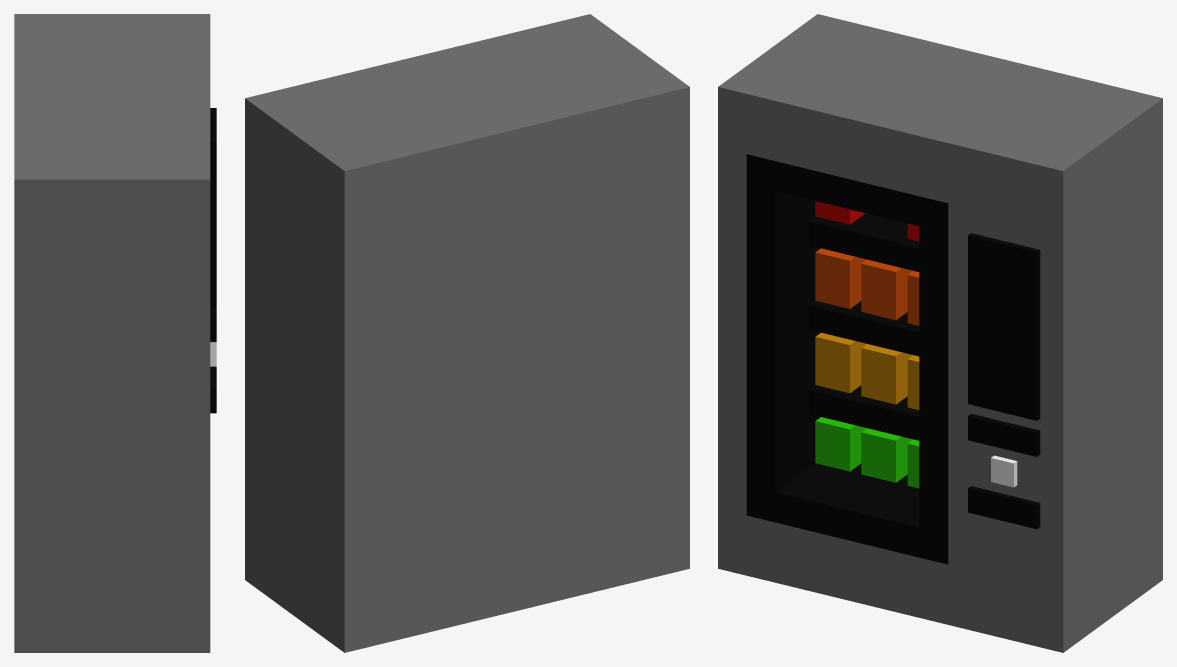
The model's file is vendingMachine.obj.
3 views of the same model, side by side, from view 1: azimuth 30°, elevation 25°; view 2: azimuth 150°, elevation 25°; view 3: azimuth 270°, elevation 25° (orthographic).
Parts seen in each view (by area): view 1: Part.013, Part.024, Part.012, Part.022, Part.010; view 2: Part.023, Part.002, Part.024, Part.012, Part.013; view 3: Part.023, Part.024, Part.012, Part.017, Part.022, Part.028, Part.013, Part.027, Part.014, Part.026, Part.011, Part.007 (+12 smaller).
Boxes of the visible parts, x1,y1,x2,y2 form: Part.013: (14, 238, 210, 593); Part.024: (14, 14, 210, 238); Part.012: (14, 593, 210, 652); Part.022: (210, 108, 216, 306); Part.010: (210, 366, 216, 413); Part.023: (245, 158, 459, 592); Part.002: (459, 154, 661, 564); Part.024: (245, 14, 689, 231); Part.012: (245, 508, 689, 652); Part.013: (661, 147, 689, 515); Part.023: (948, 158, 1162, 592); Part.024: (718, 14, 1162, 231); Part.012: (718, 508, 1162, 652); Part.017: (746, 154, 820, 522); Part.022: (968, 233, 1040, 420); Part.028: (919, 196, 948, 564); Part.013: (718, 147, 746, 515); Part.027: (775, 463, 919, 557); Part.014: (775, 161, 919, 226); Part.026: (808, 213, 919, 271); Part.011: (808, 300, 919, 356); Part.007: (808, 385, 919, 440).
Size of the model in its own units: 12.32 by 17.61 by 14.74.
